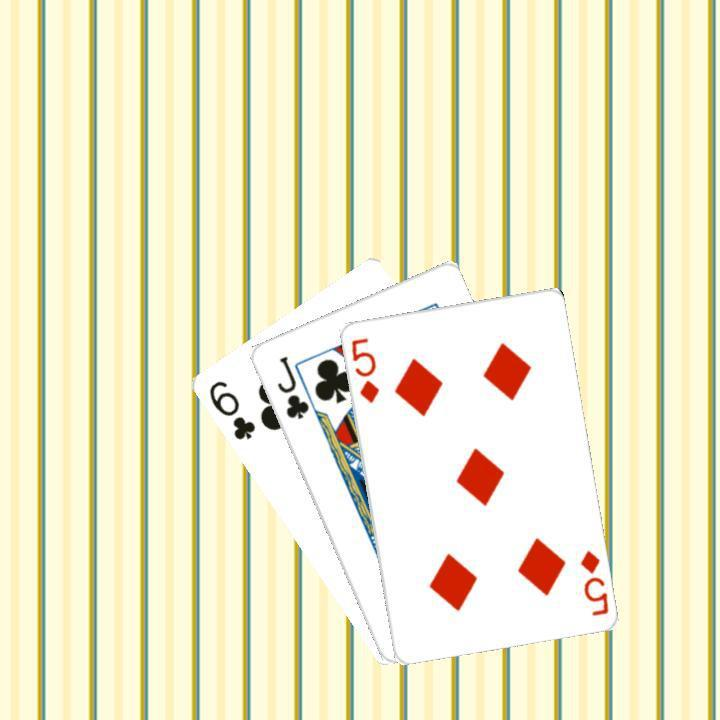5: (346, 333, 381, 405), (575, 545, 610, 617)
6: (203, 376, 257, 442)
J: (272, 351, 311, 421)
